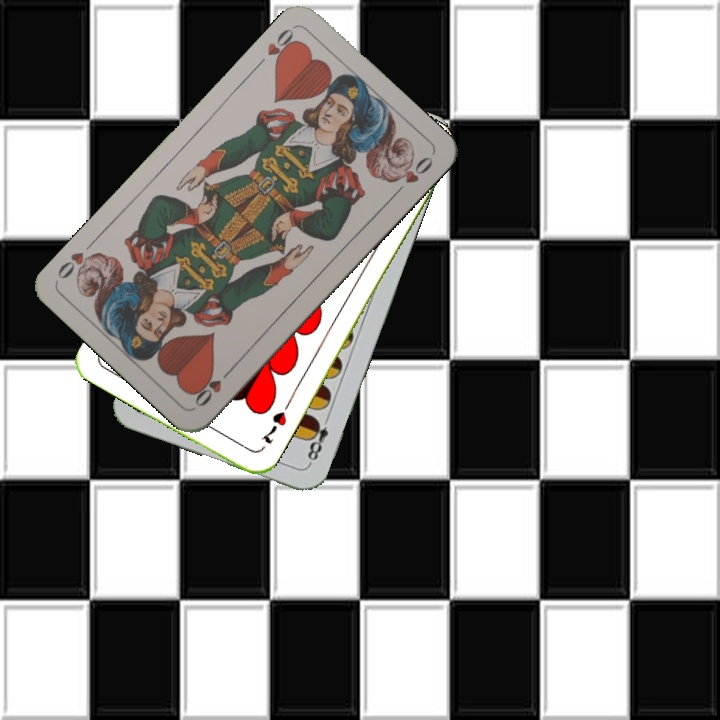E8: (303, 411, 333, 468)
H7: (256, 407, 290, 447)
HO: (252, 23, 302, 70), (190, 363, 236, 410)
